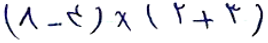character: (4, 4, 20, 42), (17, 7, 41, 32), (67, 5, 89, 30), (250, 3, 264, 39), (114, 9, 133, 33), (90, 5, 103, 38), (192, 11, 214, 30), (224, 2, 241, 26), (144, 3, 159, 30), (172, 2, 187, 26), (47, 21, 65, 32)
